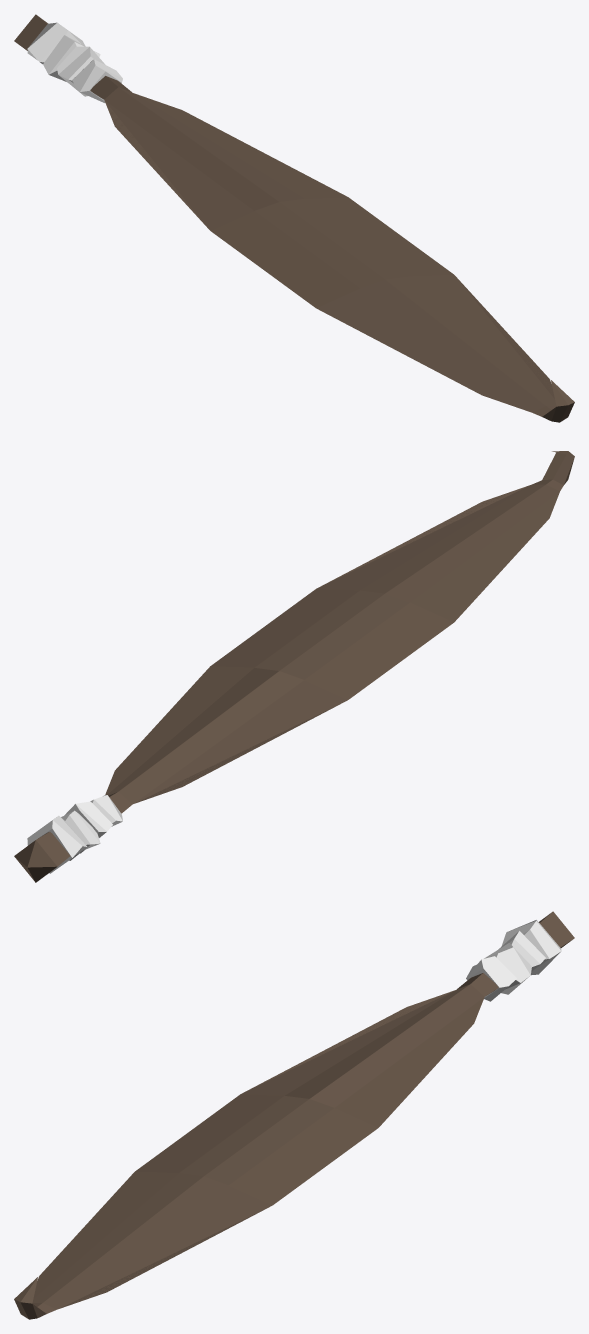
Rendered from spearThrower.glb.
3 views of the same model, one above another, from view 1: azimuth 30°, elevation 25°; view 2: azimuth 150°, elevation 25°; view 3: azimuth 330°, elevation 25° (orthographic).
Parts seen in each view (by area): view 1: SpearThrower; view 2: SpearThrower; view 3: SpearThrower.
Boxes of the visible parts, x1,y1,x2,y2 form: SpearThrower: (14,14,574,422); SpearThrower: (14,451,574,882); SpearThrower: (14,911,574,1319).
Size of the model in its own units: 0.6657 by 0.2781 by 4.51.
